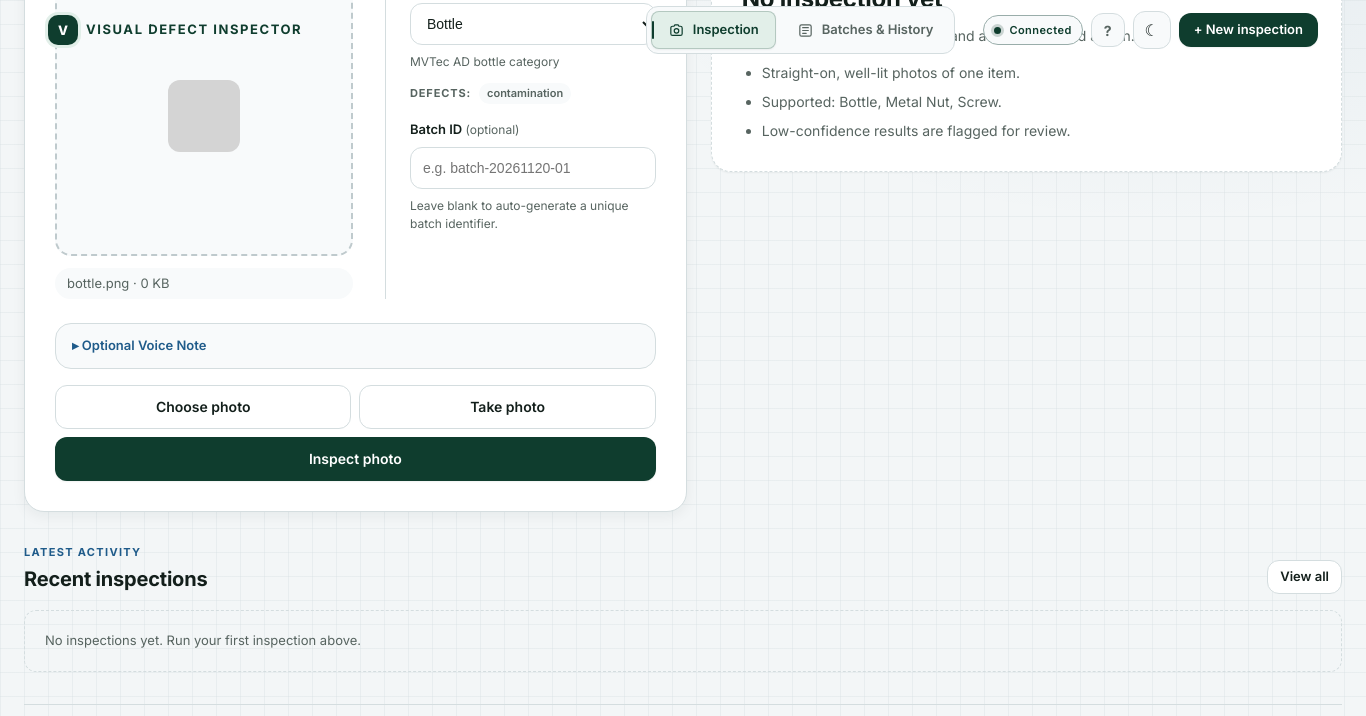
Scenario: App › shows the batch context and refreshes recent inspections after a result
The image size is (1366, 716).
Earlier steps of the test are not shown.
(page scrolled)
Click the button "Inspect photo": x=355, y=459 [55,437,656,481]
(page scrolled)
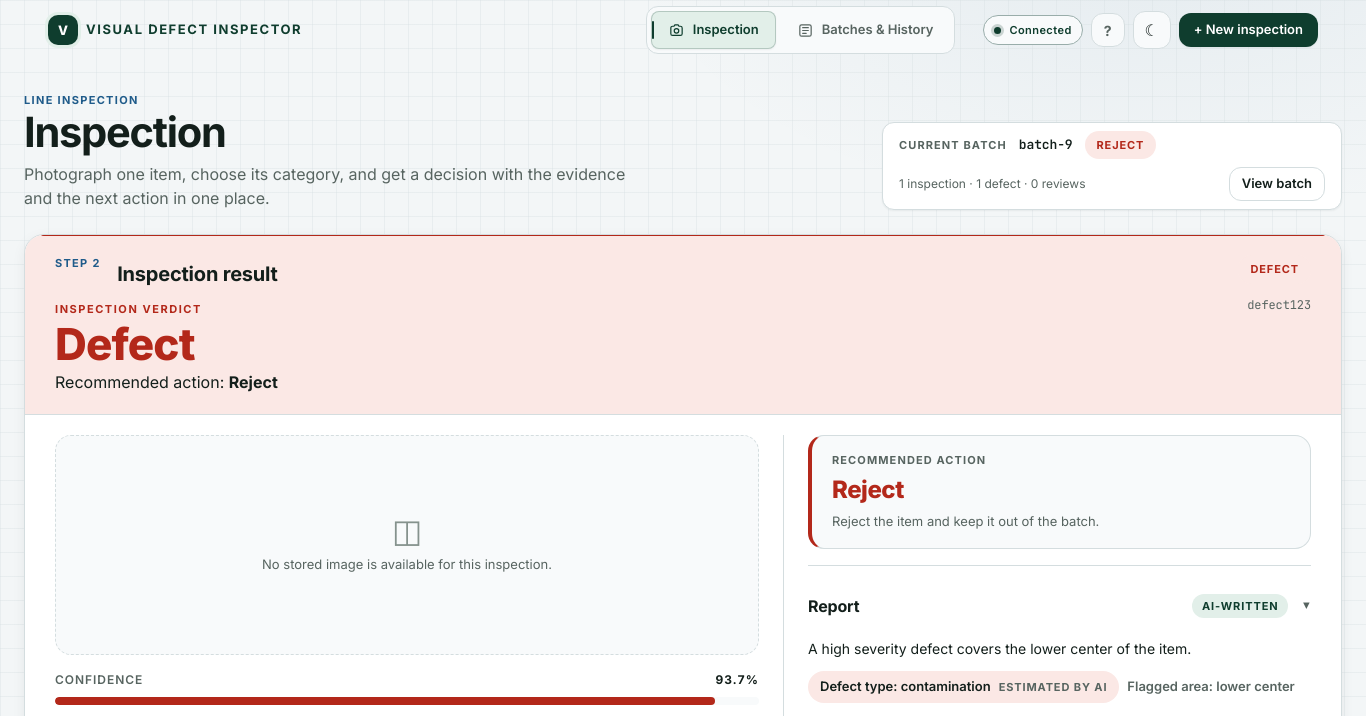
Check: the text "1 inspection · 1 defect · 0 reviews" is shown, box [899,175,1086,193]
